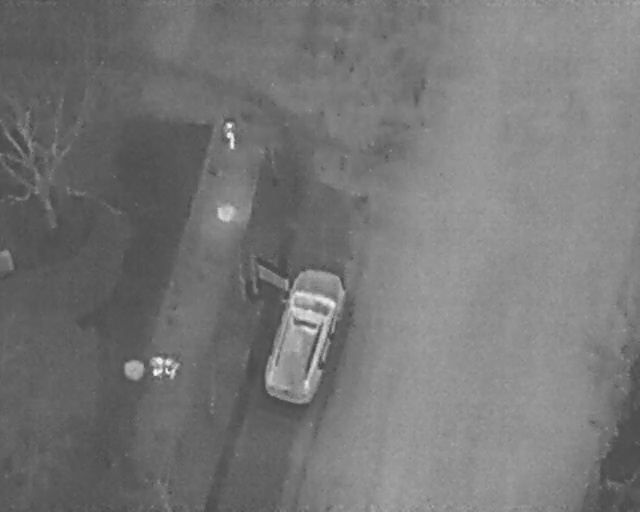Car: (260, 264, 350, 406)
Person: (223, 121, 236, 149), (166, 356, 180, 380), (151, 356, 164, 377)
